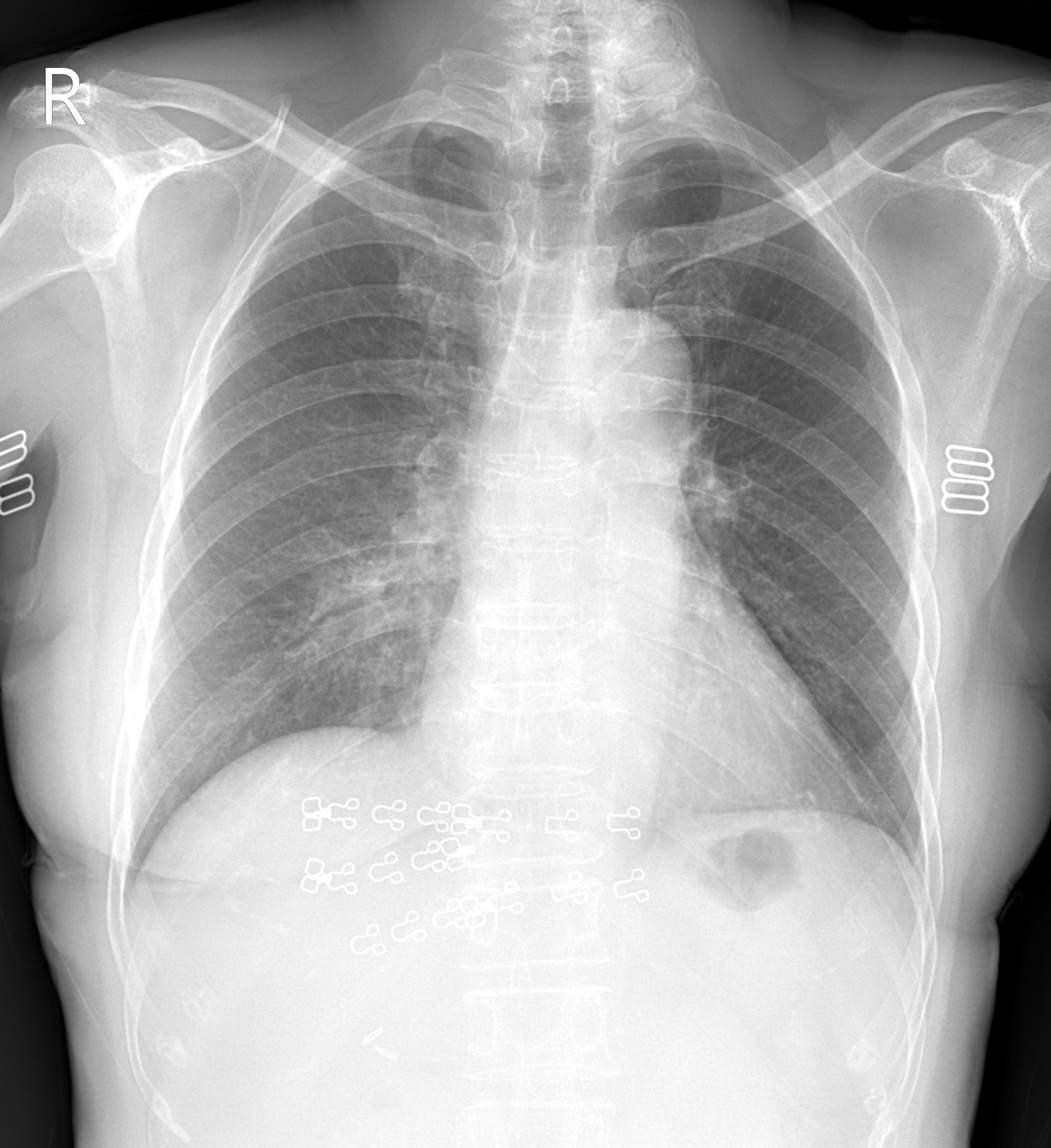Aortic enlargement: (569, 314, 700, 449)
